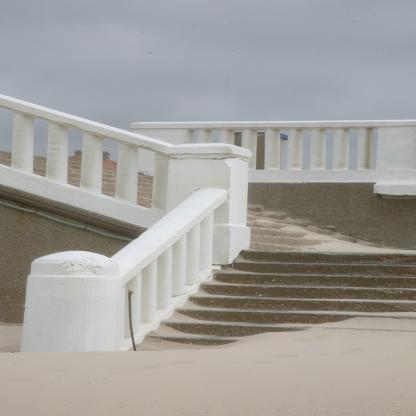stair: (164, 236, 416, 383)
